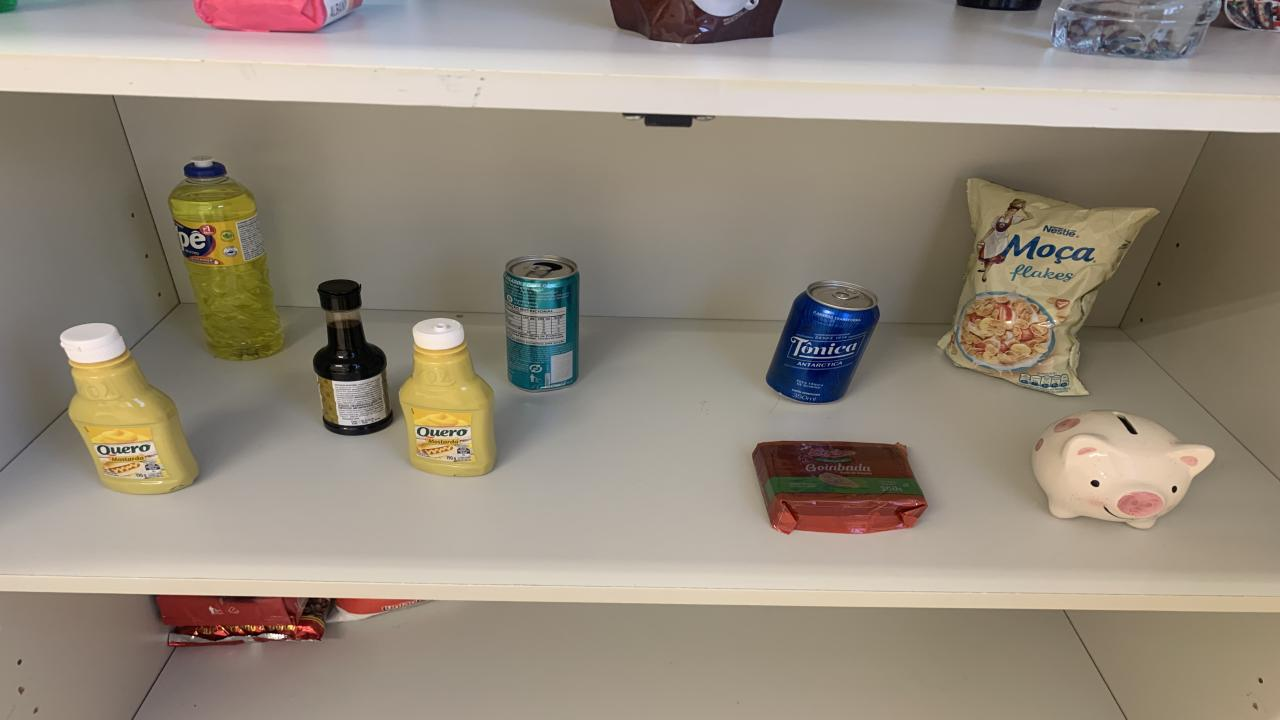Coffee-Pantry_Items: (610, 0, 782, 43)
Detergent-Cleanup_Items: (168, 158, 282, 360)
English_Sauce-Pantry_Items: (312, 279, 392, 435)
Flakes-Snacks: (940, 178, 1158, 396)
Guava-Snacks: (752, 441, 928, 534)
Mustard-Pantry_Items: (60, 322, 198, 495), (400, 317, 495, 476)
Pig_Safe-Miscellaneous: (1032, 411, 1215, 529)
Soap-Cleanup_Items: (195, 0, 362, 32)
Tea-Drinks: (502, 255, 580, 392)
Tonic-Drinks: (768, 281, 880, 403)
Tuna_Can-Pantry_Items: (1222, 0, 1280, 32)
Water_Bottle-Drinks: (1052, 0, 1220, 60)
